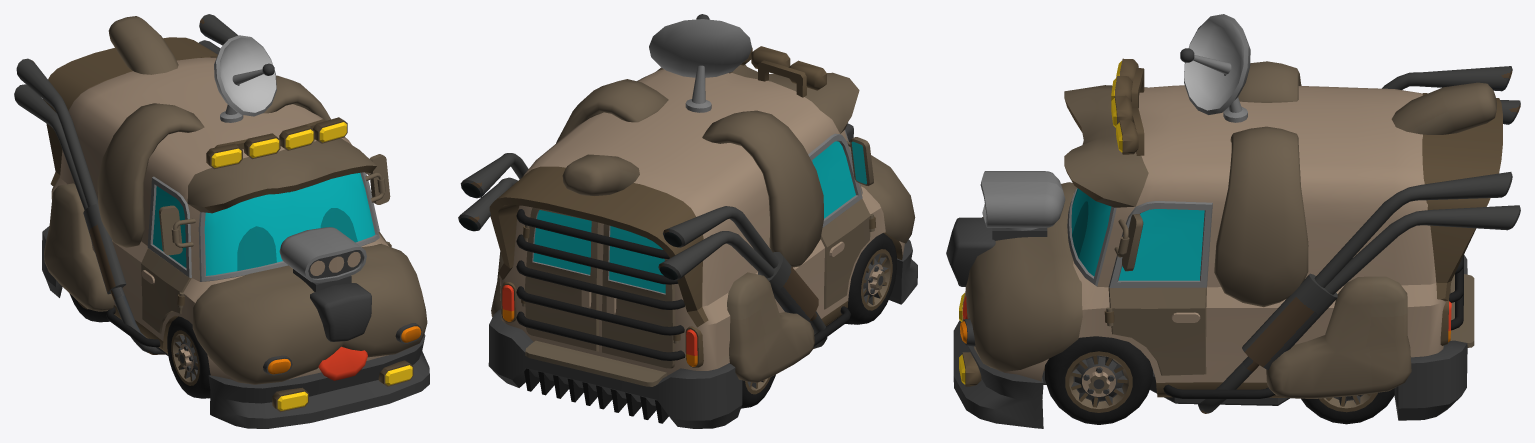
File: VEH25-C.fbx
3 views of the same model, side by side, from view 1: azimuth 30°, elevation 25°; view 2: azimuth 150°, elevation 25°; view 3: azimuth 270°, elevation 25° (orthographic). The views are drawn at different scales.
Parts seen in each view (by area): view 1: VEH25_C, VEH25C_BodyParts, VEH25C_Wheel_FR; view 2: VEH25_C, VEH25C_BodyParts, VEH25C_Wheel_FR, VEH25C_Wheel_BR; view 3: VEH25_C, VEH25C_Wheel_FL, VEH25C_BodyParts, VEH25C_Wheel_BL.
Part boxes in pixels (<box>): VEH25_C: <box>14,14,429,428</box>; VEH25C_BodyParts: <box>214,35,276,122</box>; VEH25C_Wheel_FR: <box>167,316,210,398</box>; VEH25_C: <box>458,46,917,428</box>; VEH25C_BodyParts: <box>649,14,751,112</box>; VEH25C_Wheel_FR: <box>845,233,896,324</box>; VEH25C_Wheel_BR: <box>741,374,775,408</box>; VEH25_C: <box>946,58,1520,428</box>; VEH25C_Wheel_FL: <box>1045,336,1152,424</box>; VEH25C_BodyParts: <box>1180,14,1250,122</box>; VEH25C_Wheel_BL: <box>1301,388,1394,424</box>.
Bounding box in the file's own units: 282 × 320 × 475.
1 material, 1 textured.
